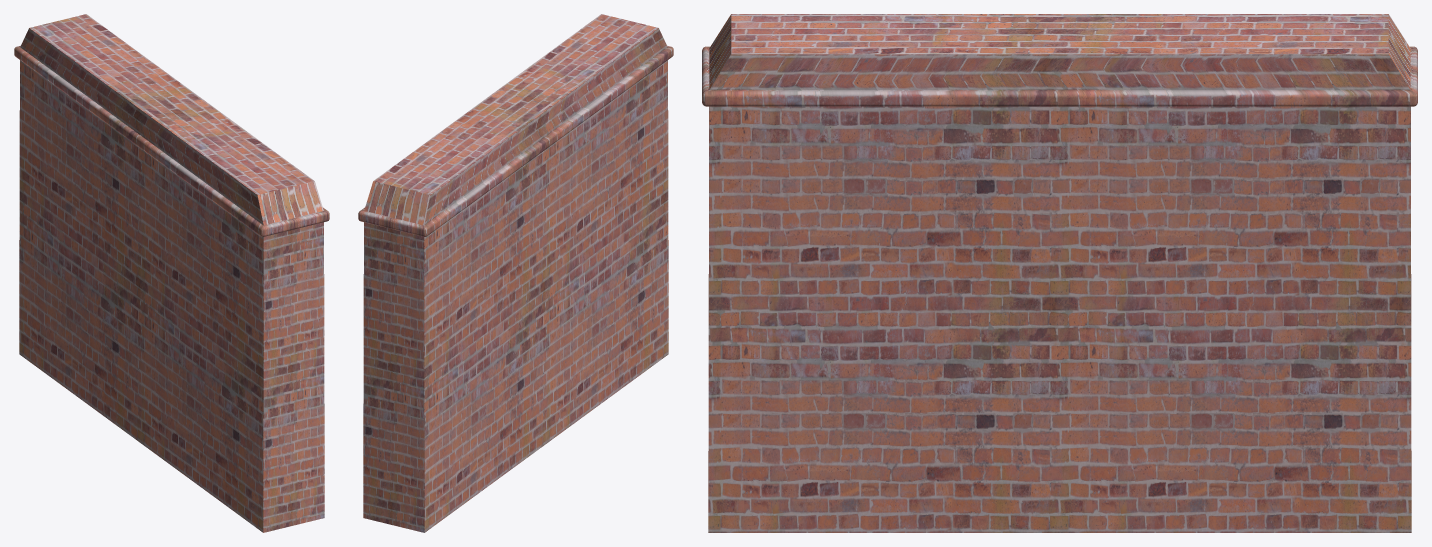
Rendered from Wall.fbx.
3 views of the same model, side by side, from view 1: azimuth 30°, elevation 25°; view 2: azimuth 150°, elevation 25°; view 3: azimuth 270°, elevation 25° (orthographic). The views are drawn at different scales.
Visible parts, largest first — view 1: Wall; view 2: Wall; view 3: Wall.
Boxes of the visible parts, <box> form: Wall: <box>14,14,329,532</box>; Wall: <box>358,14,673,532</box>; Wall: <box>702,14,1417,532</box>.
Size of the model in its own units: 9.84 by 45.12 by 61.34.
Materials: 1 (1 with a texture image).
